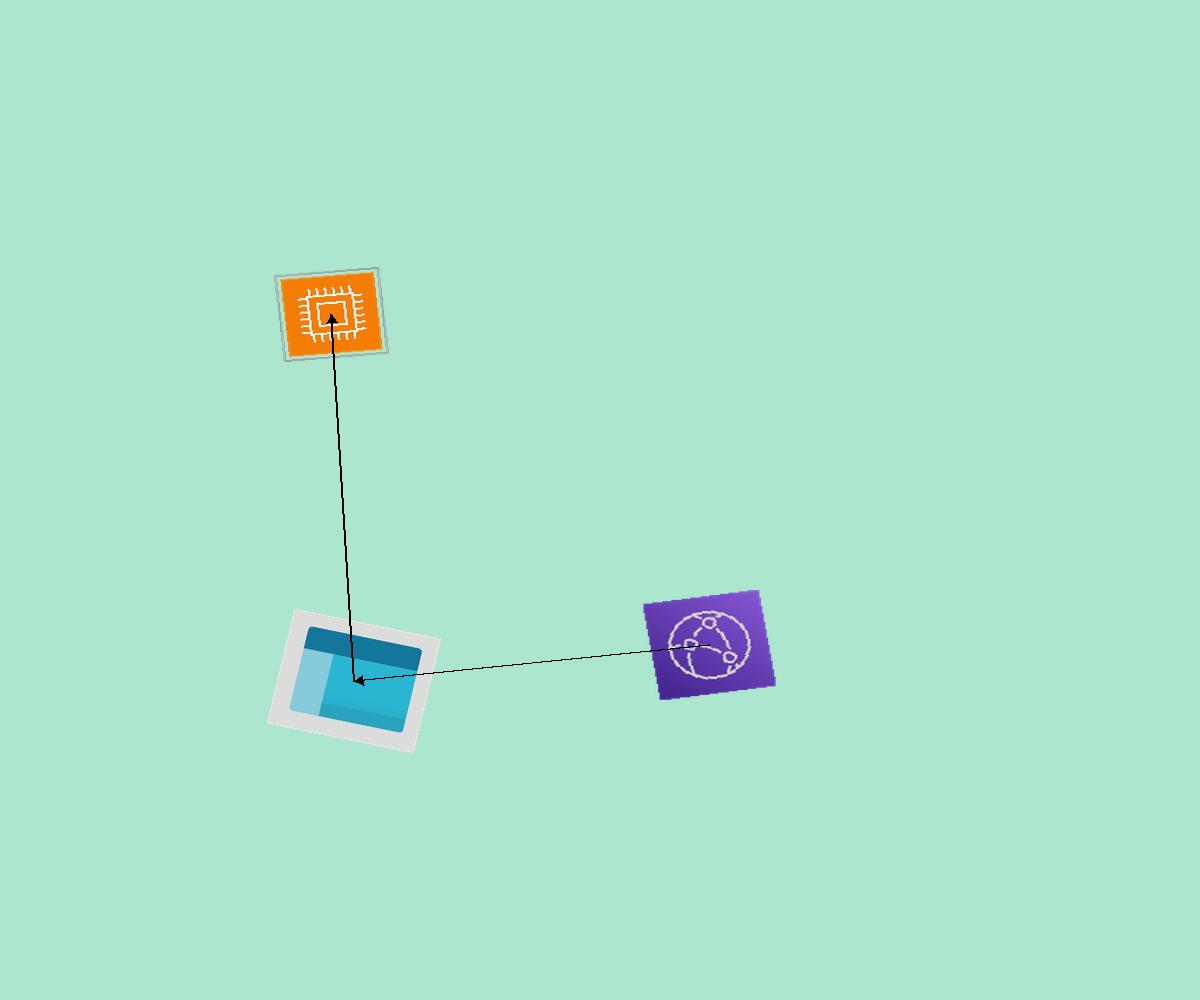AWS-Category_Compute: (273, 266, 390, 363)
AWS-CloudFront: (642, 589, 777, 701)
Azure_management-portal: (266, 608, 442, 754)
